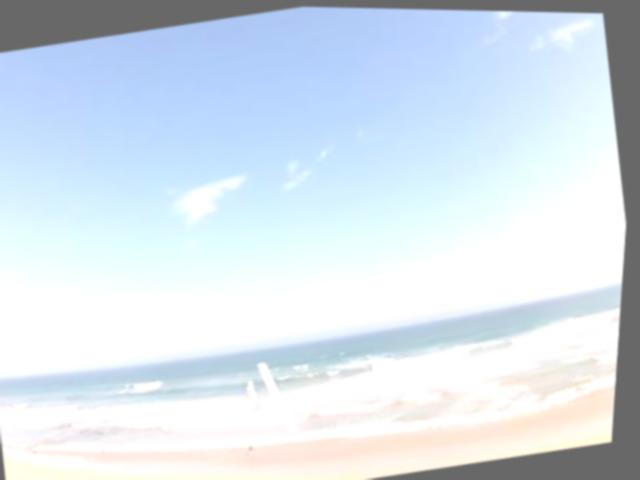uav: (242, 353, 308, 438)
